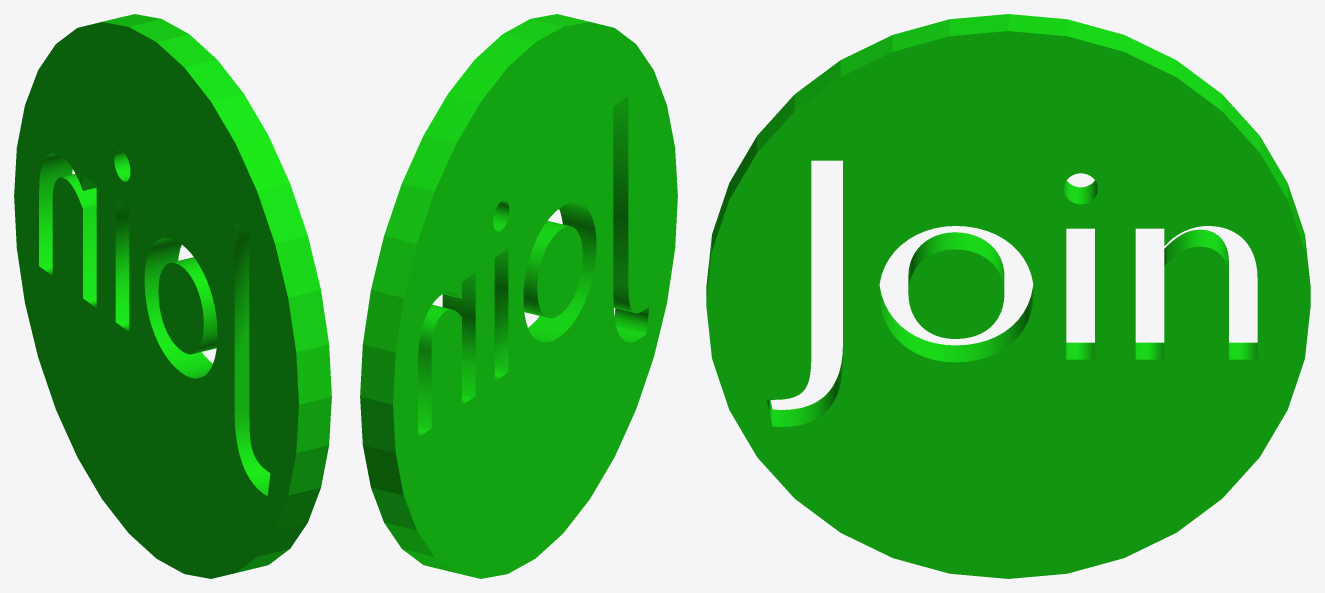
The model's file is join.glb.
The picture shows the model from 3 angles, left to right: view 1: azimuth 30°, elevation 25°; view 2: azimuth 150°, elevation 25°; view 3: azimuth 270°, elevation 25°; orthographic projection. The views are drawn at different scales.
Visible parts, largest first — view 1: Cylinder; view 2: Cylinder; view 3: Cylinder.
Part boxes in pixels (<box>): Cylinder: <box>14,14,331,578</box>; Cylinder: <box>360,14,677,578</box>; Cylinder: <box>706,14,1310,578</box>.
Bounding box in the file's own units: 0.01 × 0.15 × 0.15.
